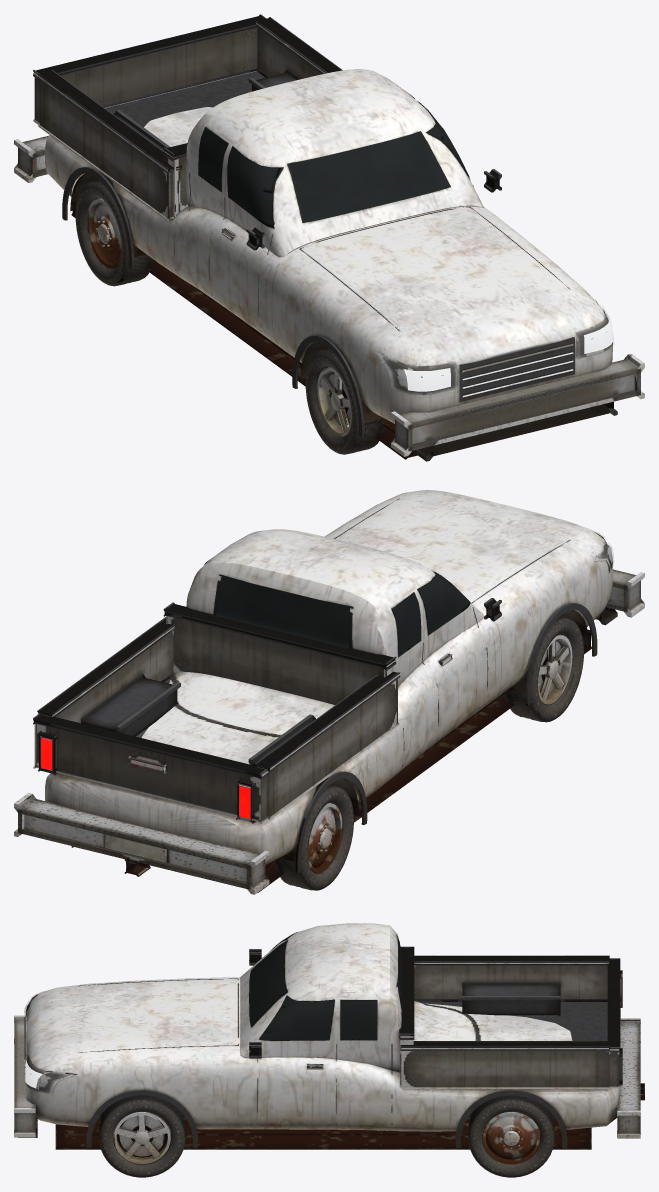
Rendered from traffic-pickup.glb.
The picture shows the model from 3 angles, top to bottom: view 1: azimuth 30°, elevation 25°; view 2: azimuth 150°, elevation 25°; view 3: azimuth 270°, elevation 25°; orthographic projection. The views are drawn at different scales.
Parts seen in each view (by area): view 1: body, wheel-fl, wheel-rl; view 2: body, wheel-rl, wheel-fl; view 3: body, wheel-fr, wheel-rr.
Part boxes in pixels (x1,y1,x2,y2): body: (14, 14, 644, 461); wheel-fl: (305, 348, 385, 454); wheel-rl: (75, 180, 154, 286); body: (14, 490, 644, 894); wheel-rl: (274, 784, 353, 890); wheel-fl: (504, 616, 583, 722); body: (14, 923, 644, 1149); wheel-fr: (99, 1095, 185, 1177); wheel-rr: (468, 1095, 554, 1177).
Bounding box in the file's own units: 2.15 × 1.93 × 5.91.
19 materials, 17 textured.
